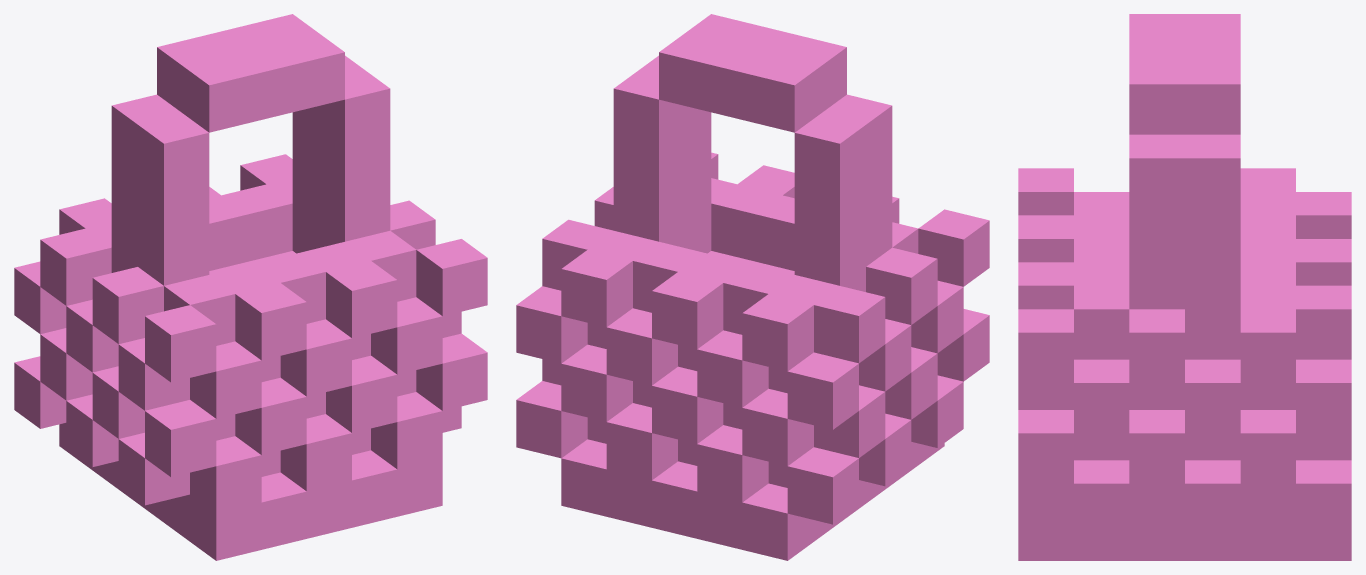
The picture shows the model from 3 angles, left to right: view 1: azimuth 30°, elevation 25°; view 2: azimuth 150°, elevation 25°; view 3: azimuth 270°, elevation 25°; orthographic projection. The views are drawn at different scales.
Parts seen in each view (by area): view 1: 100; view 2: 100; view 3: 100.
Part boxes in pixels (x1,y1,x2,y2): 100: (14,14,487,560); 100: (516,14,989,560); 100: (1018,14,1351,560).
Size of the model in its own units: 70 by 90 by 60.
1 material, 1 textured.
